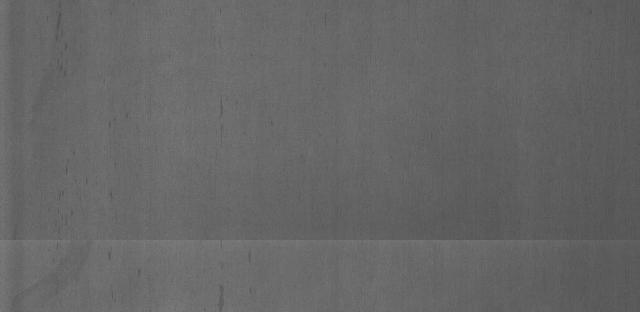welding_line: (2, 230, 640, 255)
